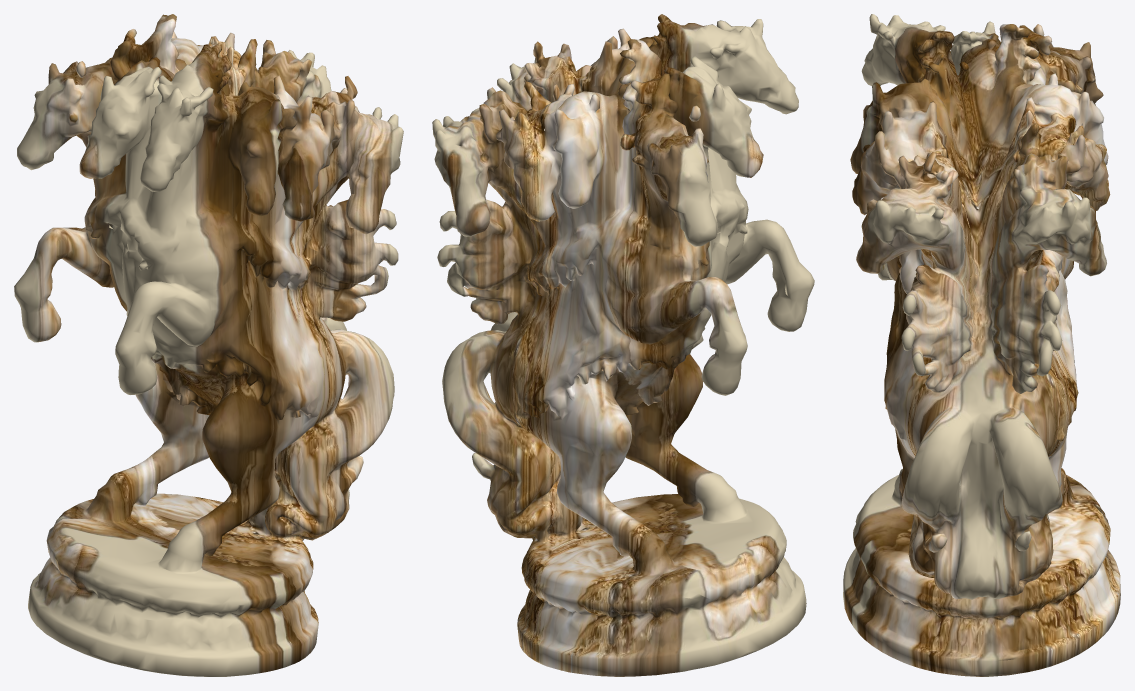
The model's file is ashva.glb.
3 views of the same model, side by side, from view 1: azimuth 30°, elevation 25°; view 2: azimuth 150°, elevation 25°; view 3: azimuth 270°, elevation 25° (orthographic). The views are drawn at different scales.
Visible parts, largest first — view 1: geometry_0; view 2: geometry_0; view 3: geometry_0.
Boxes of the visible parts, box(x1,y1,x2,y2) form: geometry_0: box(14, 14, 403, 676); geometry_0: box(432, 14, 814, 676); geometry_0: box(843, 14, 1120, 676).
Size of the model in its own units: 1.11 by 2.03 by 0.8505.
1 material, 1 textured.
